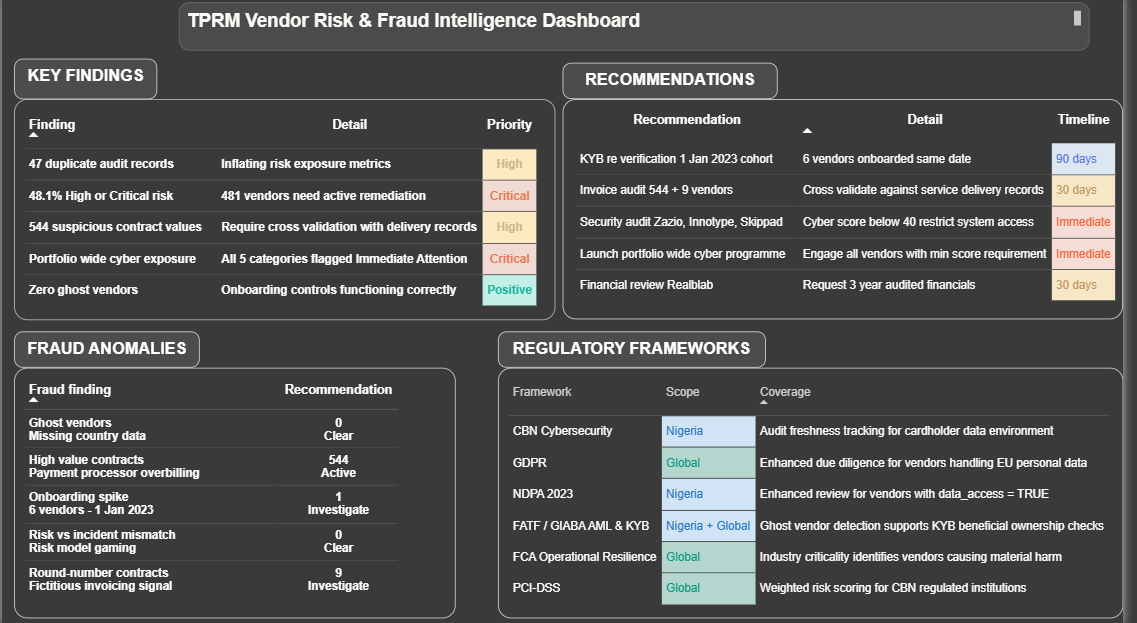

The dashboard page shown, as its layout file describes it:
{"tool":"powerbi","page":{"name":"Page 2","canvas":[1280,720],"ordinal":1},"visuals":[{"type":"tableEx","title":"KEY FINDINGS","fields":{"Values":["Table (2).Finding","Table (2).Detail","Table (2).Priority"]},"box":[13.8,118.7,617.9,252.4],"z":0},{"type":"tableEx","title":"RECOOMMENDATIONS","fields":{"Values":["Recommendation.Column1","Recommendation.Column2","Recommendation.Column3"]},"box":[639.8,118.7,639.8,251.3],"z":1000},{"type":"tableEx","title":"REGUALTORY FRAMEWORKS","fields":{"Values":["Regualtory Frameworks.Column1","Regualtory Frameworks.Column2","Regualtory Frameworks.Column3"]},"box":[566,425.4,713.5,285.9],"z":2000},{"type":"textbox","box":[13.8,72.6,163.7,46.1],"z":3000},{"type":"textbox","box":[639.8,77.2,245.5,41.5],"z":4000},{"type":"textbox","box":[566,383.9,305.5,41.5],"z":5000},{"type":"tableEx","fields":{"Values":["Table (3).Column1","Table (3).Column2"]},"box":[13.8,425.4,503.7,285.9],"z":6000},{"type":"textbox","box":[13.8,383.9,212.1,41.5],"z":7000},{"type":"textbox","box":[201.7,8.1,1039.8,55.3],"z":8000}]}

Visuals, with their boxes in screenshot pixels (x1, y1, x2, y2), scaled from the page's 1280x720 canvas onto the 1137x623 screenshot:
"KEY FINDINGS" tableEx: {"left": 12, "top": 103, "right": 561, "bottom": 321}
"RECOOMMENDATIONS" tableEx: {"left": 568, "top": 103, "right": 1136, "bottom": 320}
"REGUALTORY FRAMEWORKS" tableEx: {"left": 503, "top": 368, "right": 1136, "bottom": 615}
textbox: {"left": 12, "top": 63, "right": 158, "bottom": 103}
textbox: {"left": 568, "top": 67, "right": 786, "bottom": 103}
textbox: {"left": 503, "top": 332, "right": 774, "bottom": 368}
tableEx - Table (3).Column1 x Table (3).Column2: {"left": 12, "top": 368, "right": 460, "bottom": 615}
textbox: {"left": 12, "top": 332, "right": 201, "bottom": 368}
textbox: {"left": 179, "top": 7, "right": 1103, "bottom": 55}
